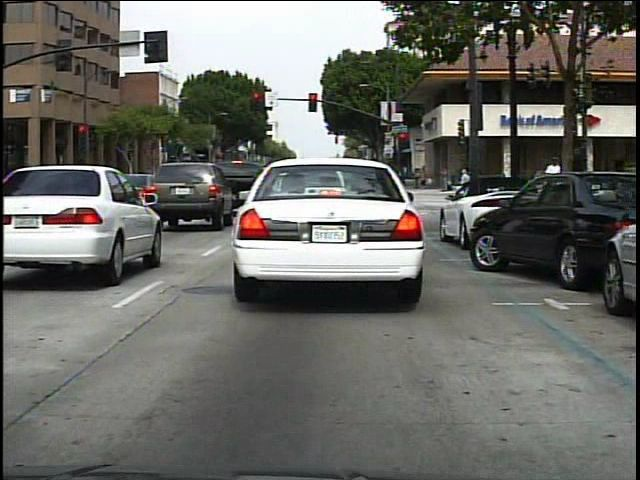person: (543, 153, 567, 214), (606, 156, 628, 209), (456, 163, 477, 212), (417, 163, 431, 192), (438, 164, 451, 195), (38, 164, 52, 189)
